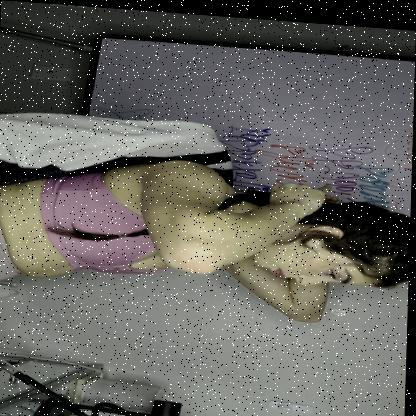streamer: (0, 147, 413, 324)
